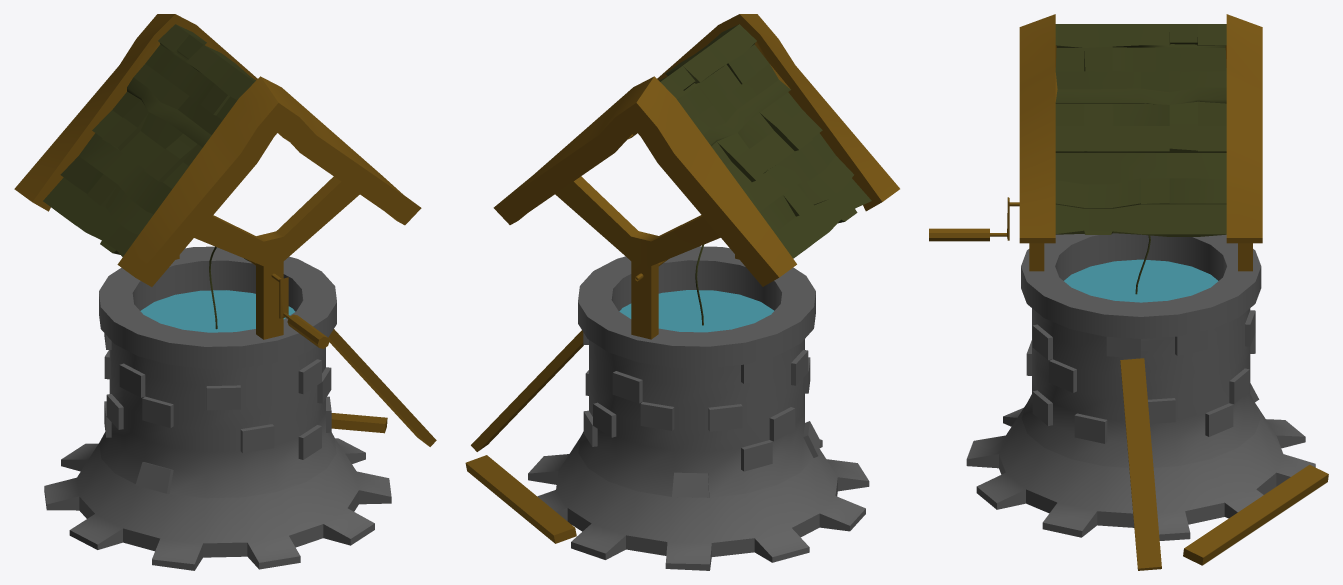
Rendered from Well_HighPolly.fbx.
The picture shows the model from 3 angles, left to right: view 1: azimuth 30°, elevation 25°; view 2: azimuth 150°, elevation 25°; view 3: azimuth 270°, elevation 25°; orthographic projection.
Visible parts, largest first — view 1: Stone_High, Roof_High, Beam_Front_High, Plank2_High, Crank_High, Plank1_High; view 2: Stone_High, Roof_High, Beam_Back_High, Plank1_High, Plank2_High; view 3: Stone_High, Roof_High, Plank2_High, Plank1_High, Crank_High.
Part boxes in pixels (box(x1,y1,x2,y2)): Stone_High: box(44, 246, 391, 570); Roof_High: box(14, 14, 421, 286); Beam_Front_High: box(194, 176, 359, 339); Plank2_High: box(328, 329, 436, 446); Crank_High: box(248, 260, 329, 348); Plank1_High: box(331, 413, 387, 433); Stone_High: box(528, 246, 869, 570); Roof_High: box(493, 14, 899, 286); Beam_Back_High: box(555, 176, 720, 339); Plank1_High: box(465, 455, 576, 543); Plank2_High: box(471, 330, 583, 451); Stone_High: box(966, 233, 1315, 540); Roof_High: box(1019, 14, 1262, 243); Plank2_High: box(1120, 358, 1161, 570); Plank1_High: box(1183, 464, 1328, 565); Crank_High: box(929, 197, 1019, 241).
Bounding box in the file's own units: 3.91 × 4.59 × 3.66.
